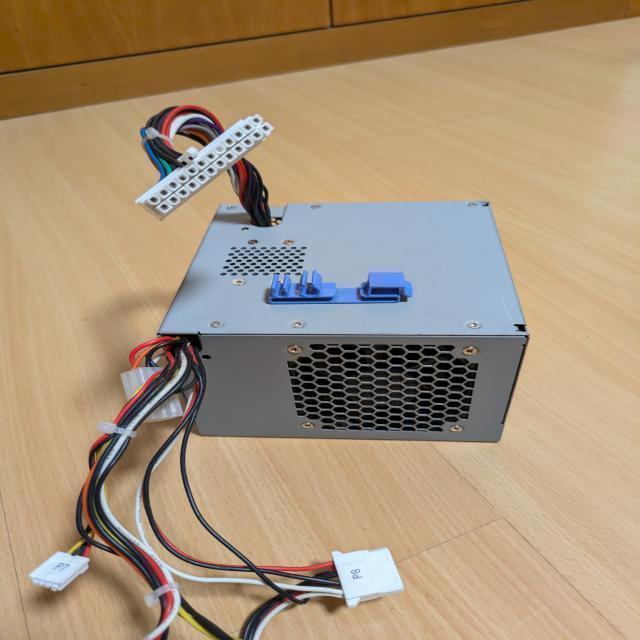PSU: (157, 200, 529, 444)
